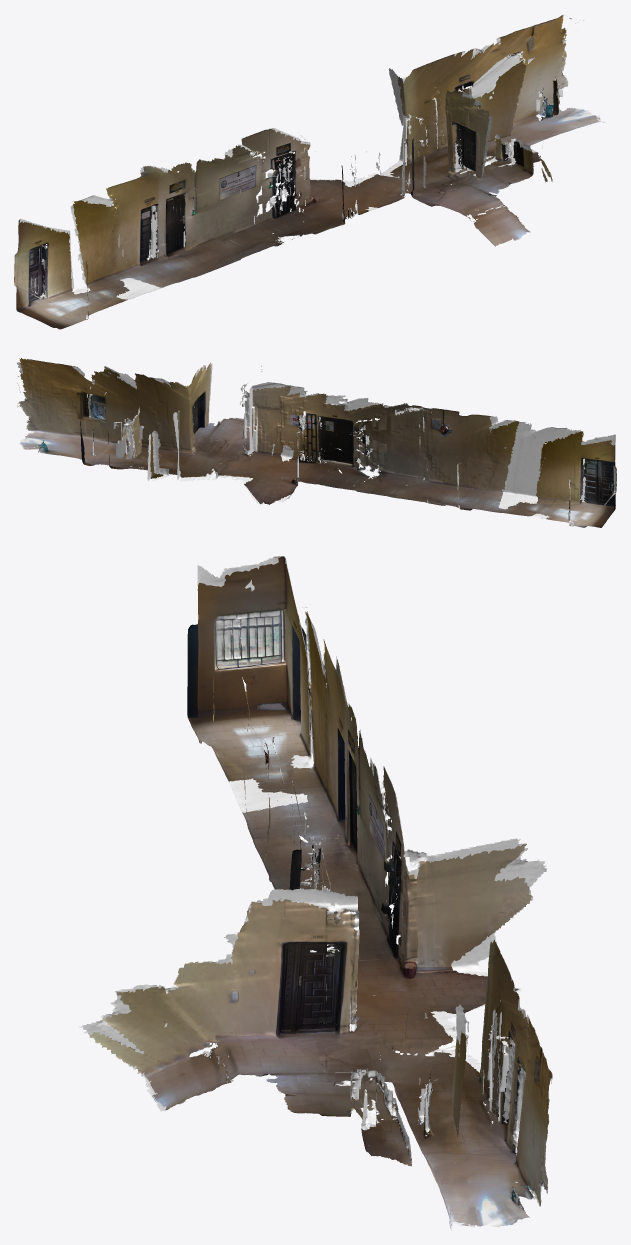
The picture shows the model from 3 angles, top to bottom: view 1: azimuth 30°, elevation 25°; view 2: azimuth 150°, elevation 25°; view 3: azimuth 270°, elevation 25°; orthographic projection. The views are drawn at different scales.
Visible parts, largest first — view 1: texture_3, texture_6, object 1, texture_10, texture_1, texture_2, texture_12, texture_0, texture_9, texture_11, texture_4, texture_7 (+1 smaller); view 2: object 1, texture_9, texture_4, texture_10, texture_2, texture_5, texture_6, texture_7, texture_0, texture_12, texture_1, texture_3 (+1 smaller); view 3: texture_7, texture_0, texture_10, object 1, texture_2, texture_11, texture_6, texture_1, texture_12, texture_3, texture_9, texture_4 (+1 smaller).
Boxes of the visible parts, x1,y1,x2,y2 form: texture_3: (106,161,269,279); texture_6: (128,128,301,287); object 1: (18,15,601,318); texture_10: (393,70,552,246); texture_1: (390,42,502,187); texture_2: (15,200,129,329); texture_12: (481,15,604,143); texture_0: (254,123,406,221); texture_9: (462,18,600,194); texture_11: (14,220,66,327); texture_4: (232,155,368,258); texture_7: (341,118,492,221); object 1: (17,359,615,526); texture_9: (18,358,221,465); texture_4: (283,403,440,492); texture_10: (122,363,262,475); texture_2: (502,431,616,527); texture_5: (364,405,491,499); texture_6: (324,421,518,507); texture_7: (194,371,339,474); texture_0: (217,387,336,504); texture_12: (17,370,109,465); texture_1: (84,395,215,478); texture_3: (364,483,505,512); texture_7: (173,839,451,1083); texture_0: (323,788,531,1048); texture_10: (89,907,500,1137); object 1: (78,556,552,1227); texture_2: (187,569,329,795); texture_11: (192,556,310,746); texture_6: (242,712,404,922); texture_1: (315,940,528,1162); texture_12: (419,1012,551,1230); texture_3: (299,639,377,920); texture_9: (273,1031,549,1226); texture_4: (267,747,402,993).
Bounding box in the file's own units: 24.24 × 3.91 × 9.16.
Materials: 13 (12 with a texture image).
